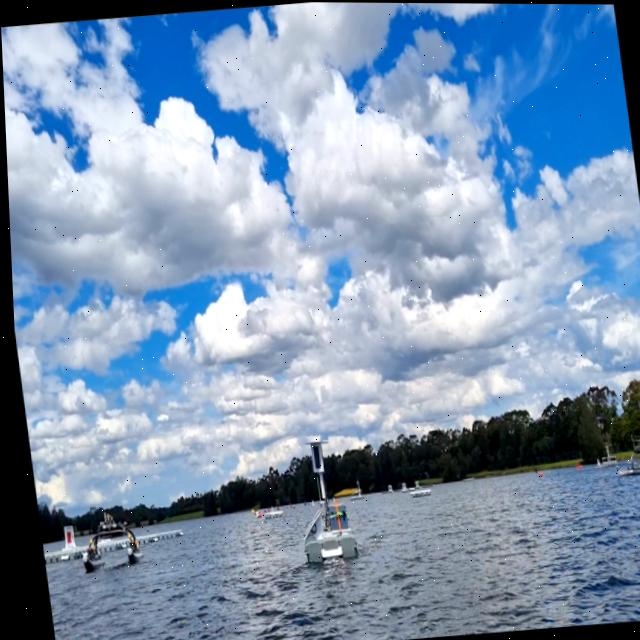led: (307, 442, 318, 470)
